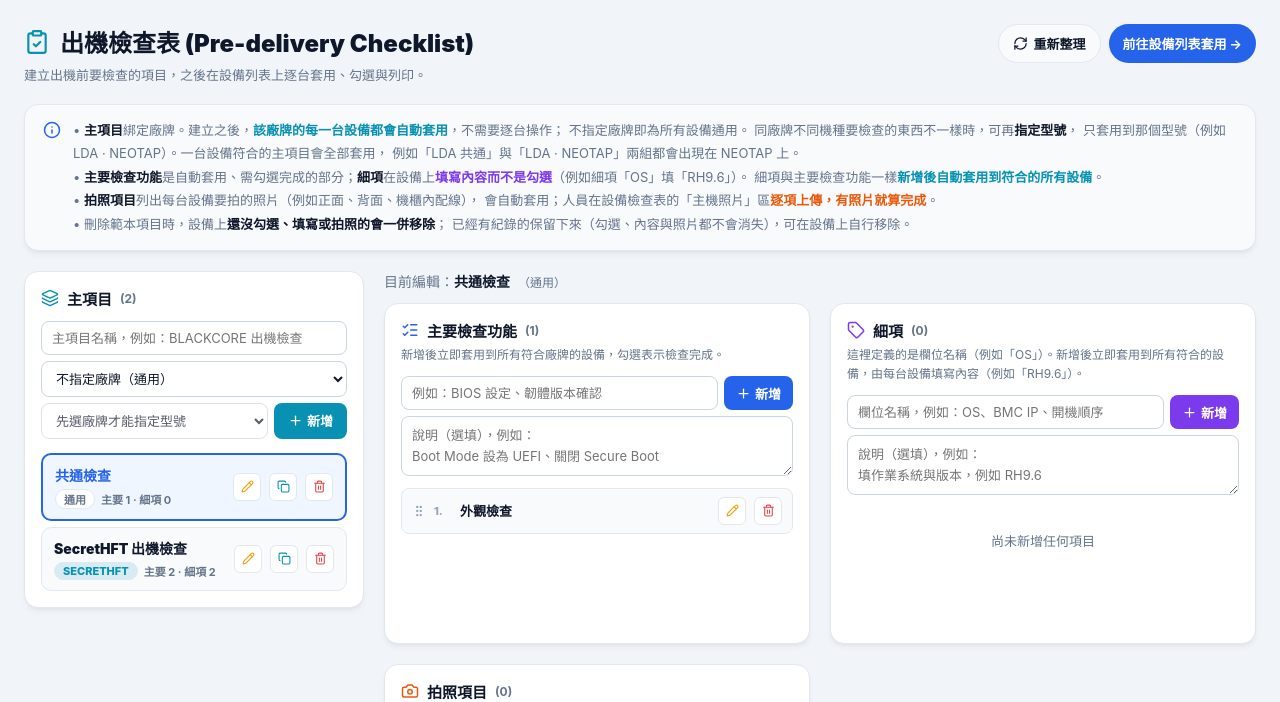
Test: 出機檢查表：範本維護頁 › 新增主要檢查功能後自動套用到該廠牌的所有設備 › 告訴使用者套用到幾台設備
Click the text "SecretHFT 出機檢查" at (121, 548), box [54,540,187,557]
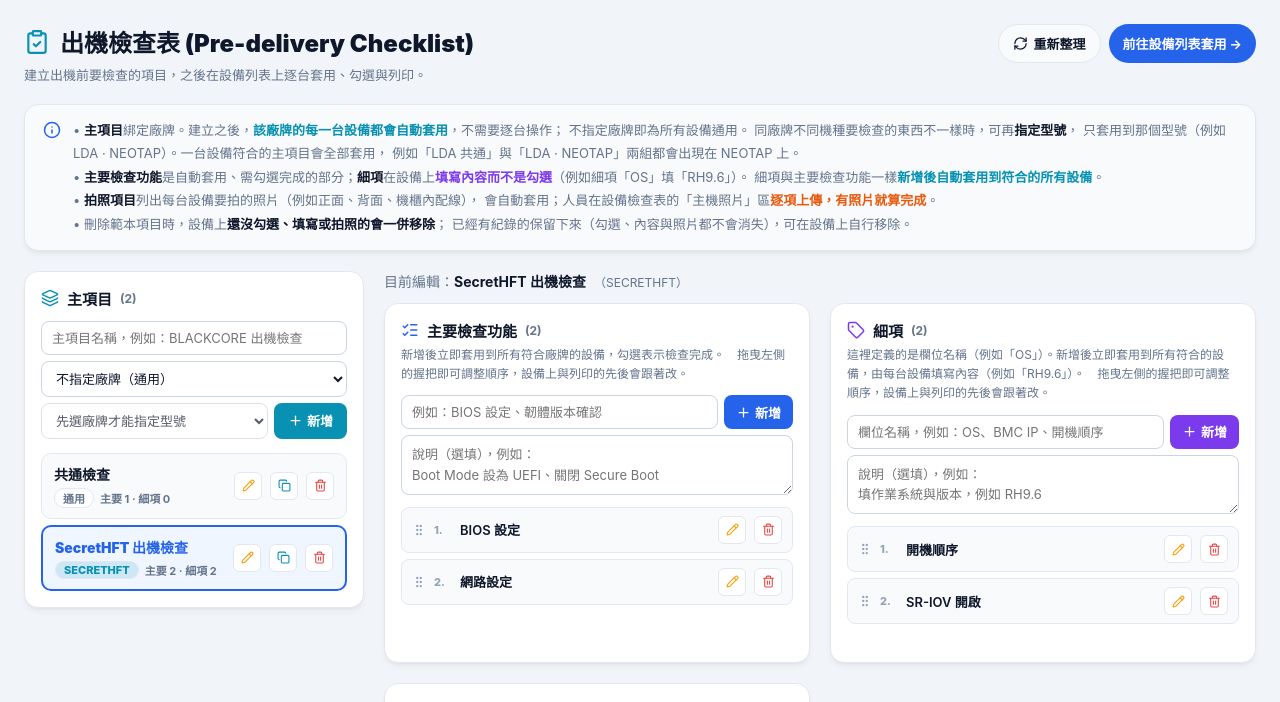
Type "風扇轉速" into the field with placeholder "例如：BIOS 設定、韌體版本確認" at (560, 412), box [401,395,718,429]
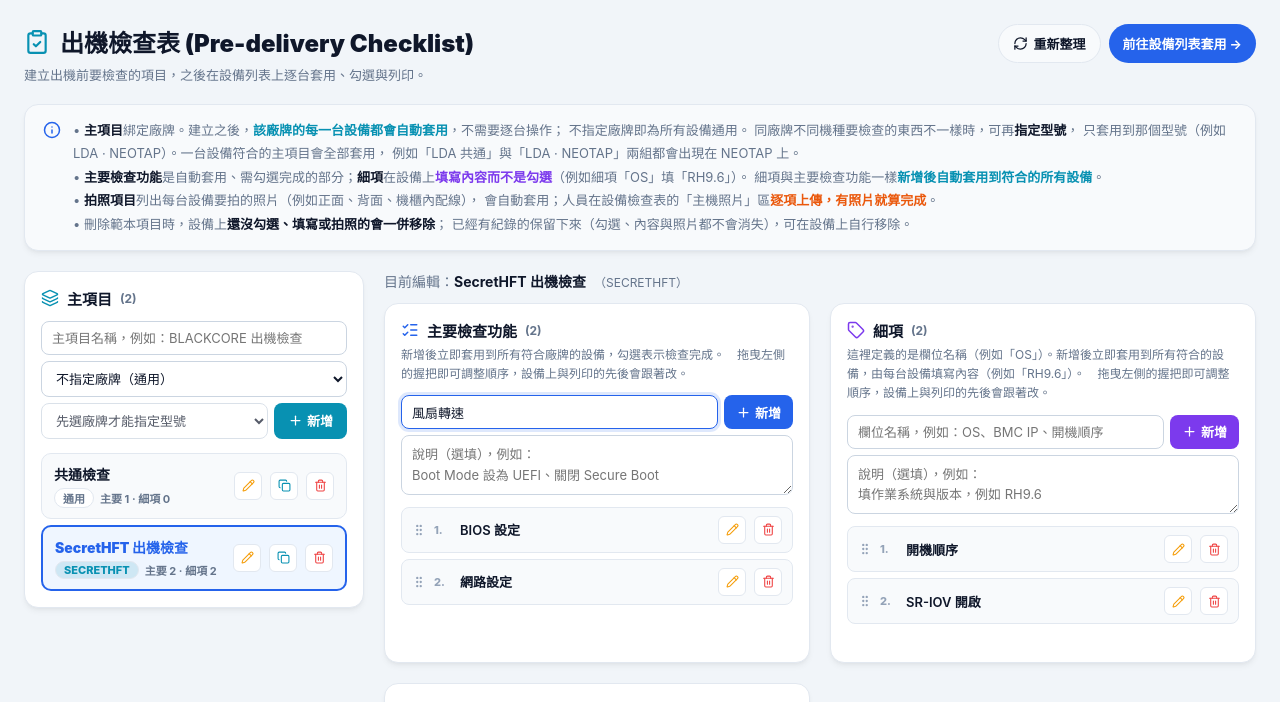
Click the button with aria-label "新增主要檢查功能" at (758, 412), box [724,395,793,429]
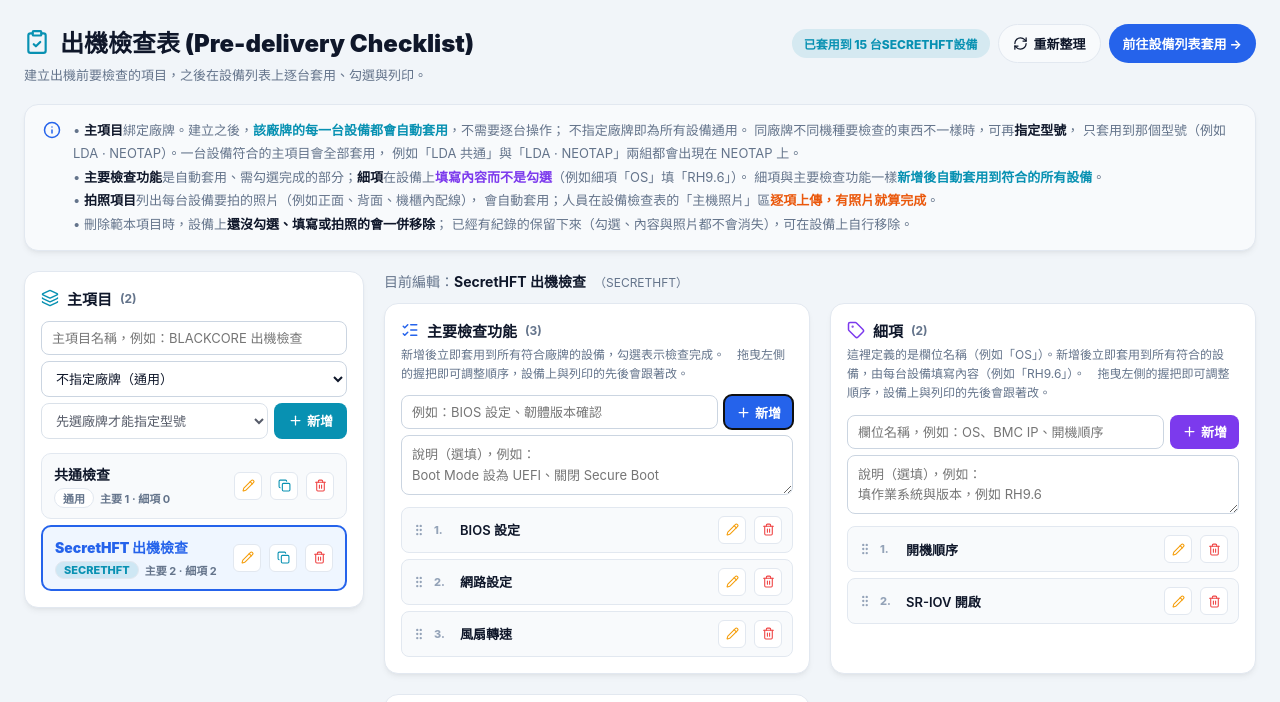
Check: the text "已套用到 15 台" is shown, box [804,37,978,52]
